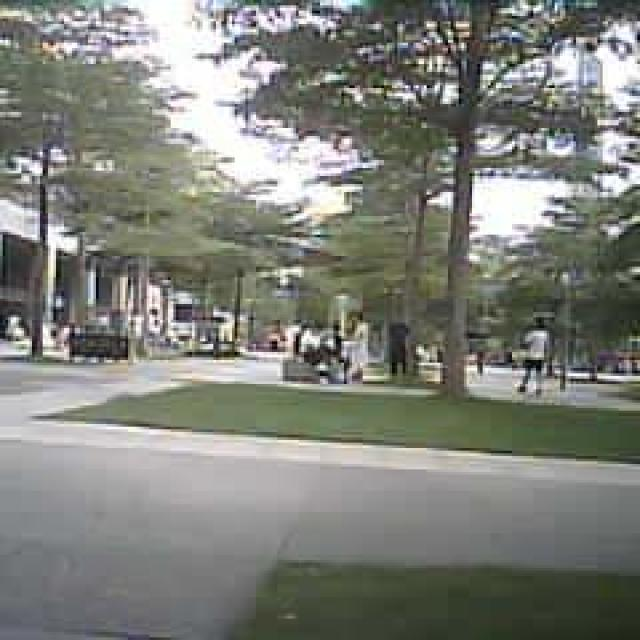gun: (520, 317, 552, 395), (344, 309, 371, 384)
